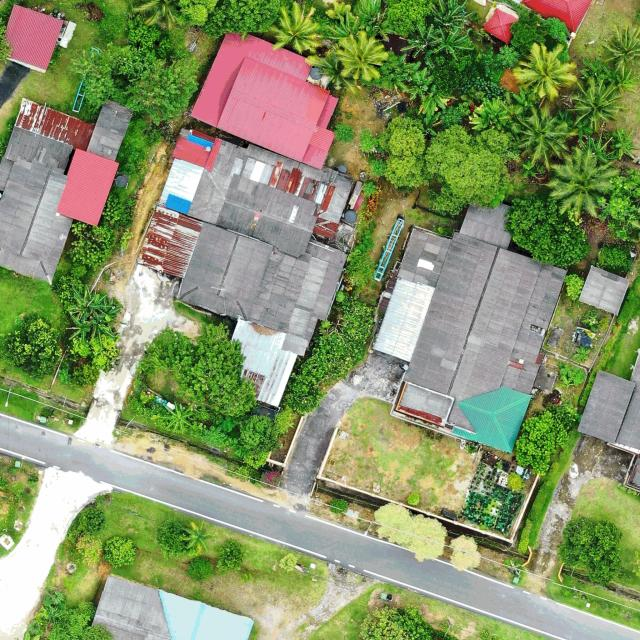Tree: (287, 302, 373, 415), (171, 323, 256, 418), (425, 123, 511, 216), (505, 192, 591, 268), (546, 144, 619, 221), (124, 55, 201, 125), (559, 514, 625, 586), (512, 408, 578, 477), (510, 102, 577, 169), (3, 313, 64, 380), (512, 42, 577, 101), (377, 115, 428, 189), (565, 73, 625, 131), (204, 0, 280, 41), (266, 1, 323, 55), (69, 332, 121, 390), (334, 32, 392, 84), (359, 603, 434, 640), (237, 414, 282, 469), (305, 52, 359, 96), (68, 219, 114, 270), (406, 513, 447, 562), (600, 23, 640, 73), (382, 0, 432, 38), (375, 502, 414, 550), (156, 518, 200, 559), (510, 9, 548, 55), (133, 0, 189, 31), (417, 83, 457, 126), (471, 95, 513, 132), (400, 24, 440, 58), (431, 28, 473, 60), (432, 1, 476, 30), (451, 534, 482, 574), (326, 8, 361, 42), (102, 192, 136, 227), (92, 292, 127, 326), (402, 66, 436, 100), (102, 535, 136, 569), (580, 135, 618, 163), (215, 537, 244, 573), (160, 401, 193, 432), (182, 520, 212, 554), (65, 286, 99, 315), (608, 127, 637, 160), (394, 55, 419, 92), (66, 314, 96, 344), (413, 108, 443, 137), (354, 0, 381, 32), (186, 556, 214, 582), (564, 273, 586, 301), (278, 551, 299, 571), (575, 117, 594, 139), (328, 497, 348, 515), (554, 110, 574, 126), (572, 347, 591, 363)
